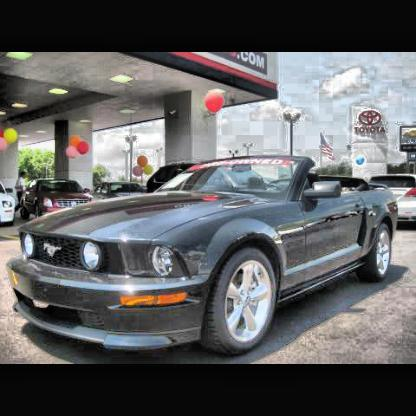Ford Mustang Convertible 2007: (6, 150, 405, 364)
